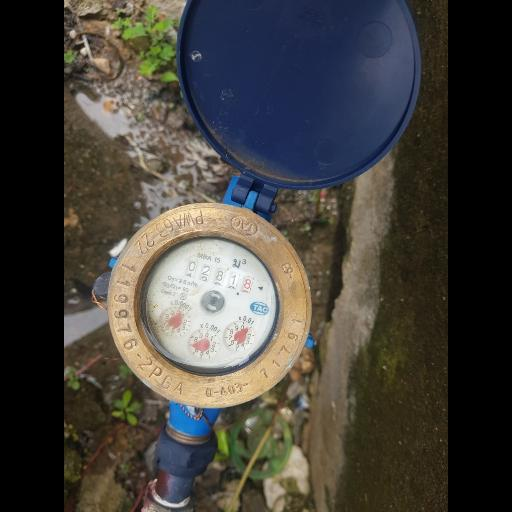0: (185, 259, 199, 279)
1: (226, 271, 240, 290)
2: (199, 263, 213, 283)
8: (212, 267, 226, 287), (240, 276, 254, 295)
border_water_meter_number: (184, 259, 255, 295)
